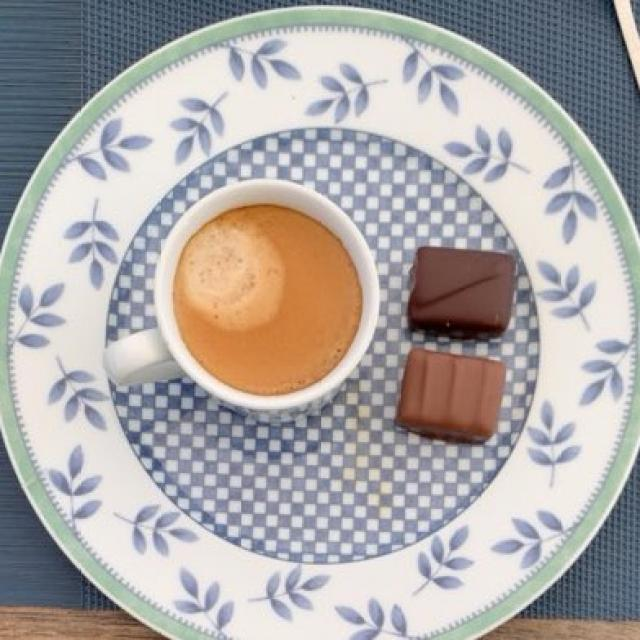coffee-decaffeinated: (176, 205, 357, 390)
dark-chocolate: (409, 241, 527, 336)
milk-chocolate: (391, 347, 520, 444)
